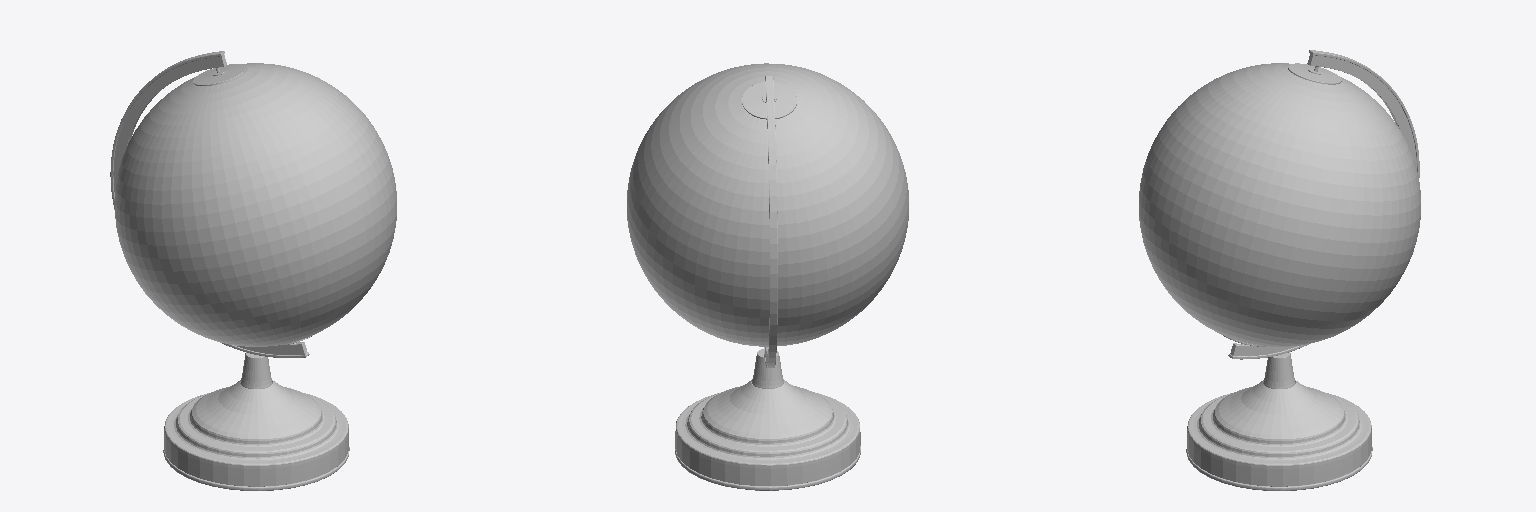
File: globe.obj
The picture shows the model from 3 angles: view 1: azimuth 30°, elevation 25°; view 2: azimuth 150°, elevation 25°; view 3: azimuth 270°, elevation 25°; orthographic projection.
Visible parts, largest first — view 1: globe1 einrichtung globe:Object01, globe:Globe02 globe1 einrichtung; view 2: globe1 einrichtung globe:Object01, globe:Globe02 globe1 einrichtung; view 3: globe1 einrichtung globe:Object01, globe:Globe02 globe1 einrichtung.
Part boxes in pixels (x1,y1,x2,y2): globe1 einrichtung globe:Object01: (115,63,396,346); globe:Globe02 globe1 einrichtung: (110,51,349,490); globe1 einrichtung globe:Object01: (627,63,908,346); globe:Globe02 globe1 einrichtung: (675,76,860,490); globe1 einrichtung globe:Object01: (1139,63,1420,346); globe:Globe02 globe1 einrichtung: (1186,50,1419,490).
Bounding box in the file's own units: 0.3722 × 0.5703 × 0.3725.